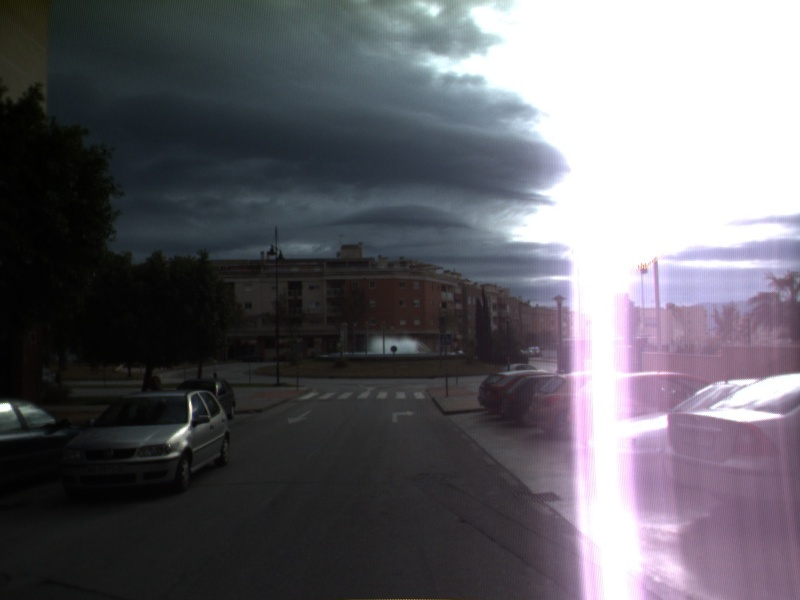RIGHT: (389, 407, 417, 424)
